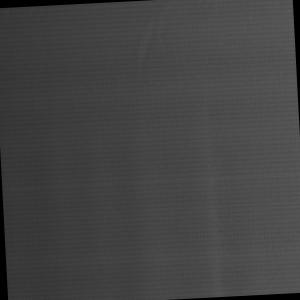Wrinkle: (128, 1, 176, 88)
